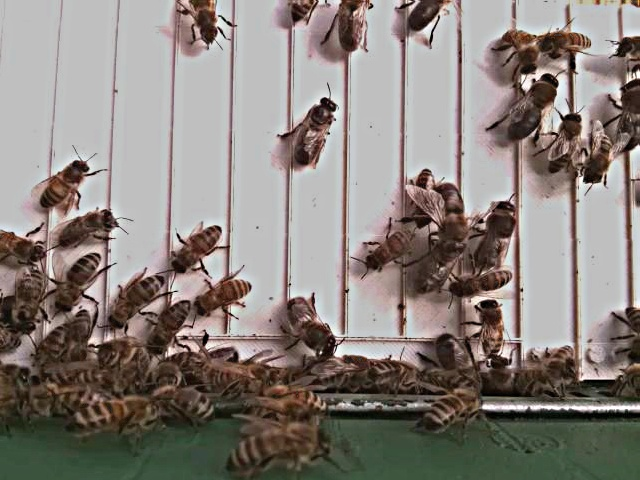Drone: (506, 67, 563, 140), (410, 231, 464, 297), (285, 292, 338, 358), (474, 194, 518, 272), (298, 93, 342, 169)
Worker: (108, 270, 170, 330), (56, 248, 104, 313), (39, 154, 92, 210), (170, 220, 226, 272), (149, 293, 194, 353), (544, 108, 585, 173), (59, 205, 119, 248), (194, 275, 257, 315), (15, 263, 49, 336), (364, 226, 417, 272), (410, 161, 441, 228), (500, 24, 542, 73), (0, 222, 48, 264), (582, 124, 614, 185), (476, 294, 506, 358), (539, 27, 597, 56)
